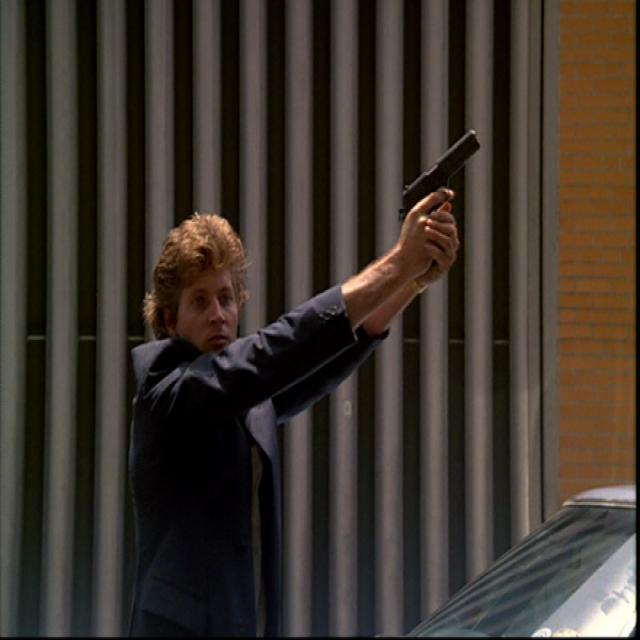weapons: (394, 120, 484, 261)
